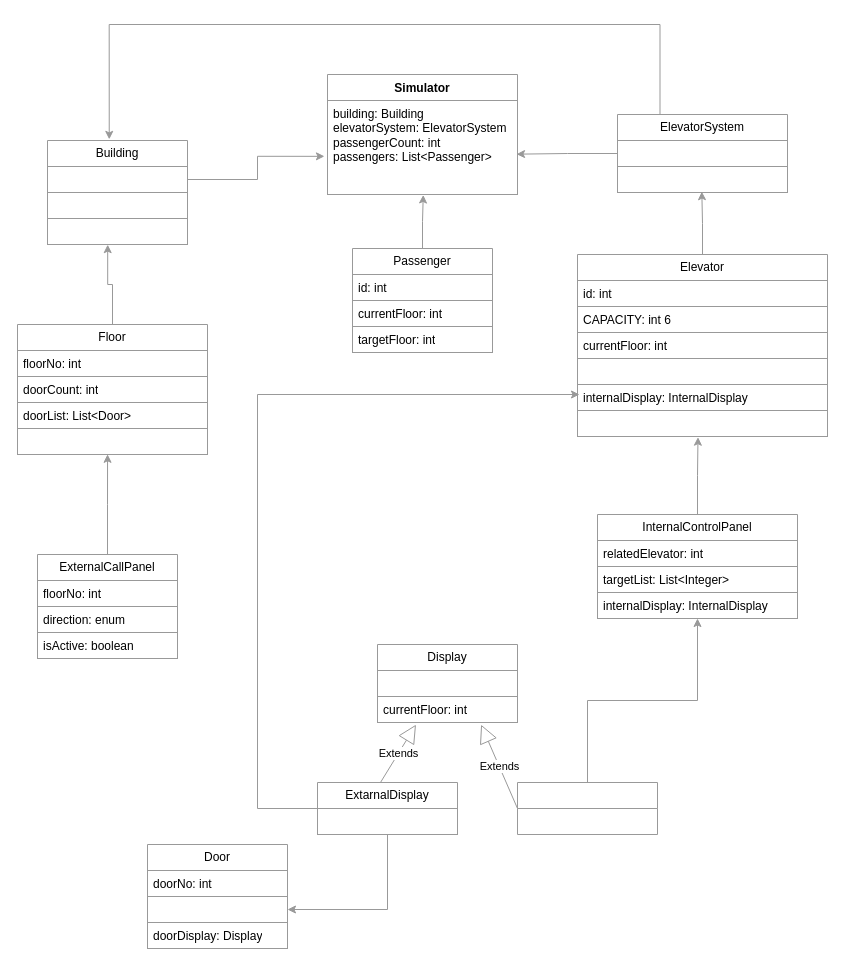
The diagram is 845 pixels wide and 969 high, and some of its shapes have lost their labels. The centre of each missing label's shape, as x and y in pixels:
"building: Building" belongs at (702,153).
"callPanels: ExternalCallPanel" belongs at (112,441).
"directionDisplay: enum" belongs at (387,821).
"elevator: Elevator" belongs at (447,683).
"elevatorCount: int" belongs at (117,205).
"elevators: List<Elevator>" belongs at (702,179).
"elevatorState: enum {IDLE, UP; DOWN}" belongs at (702,371).
"floorCount: int" belongs at (117,179).
"floorList: List<Floor>" belongs at (117,231).
"InternalControlPanel: InternalControlPanel" belongs at (702,423).
"InternalDisplay" belongs at (587,808).
"isOpen: boolean" belongs at (217,909).
